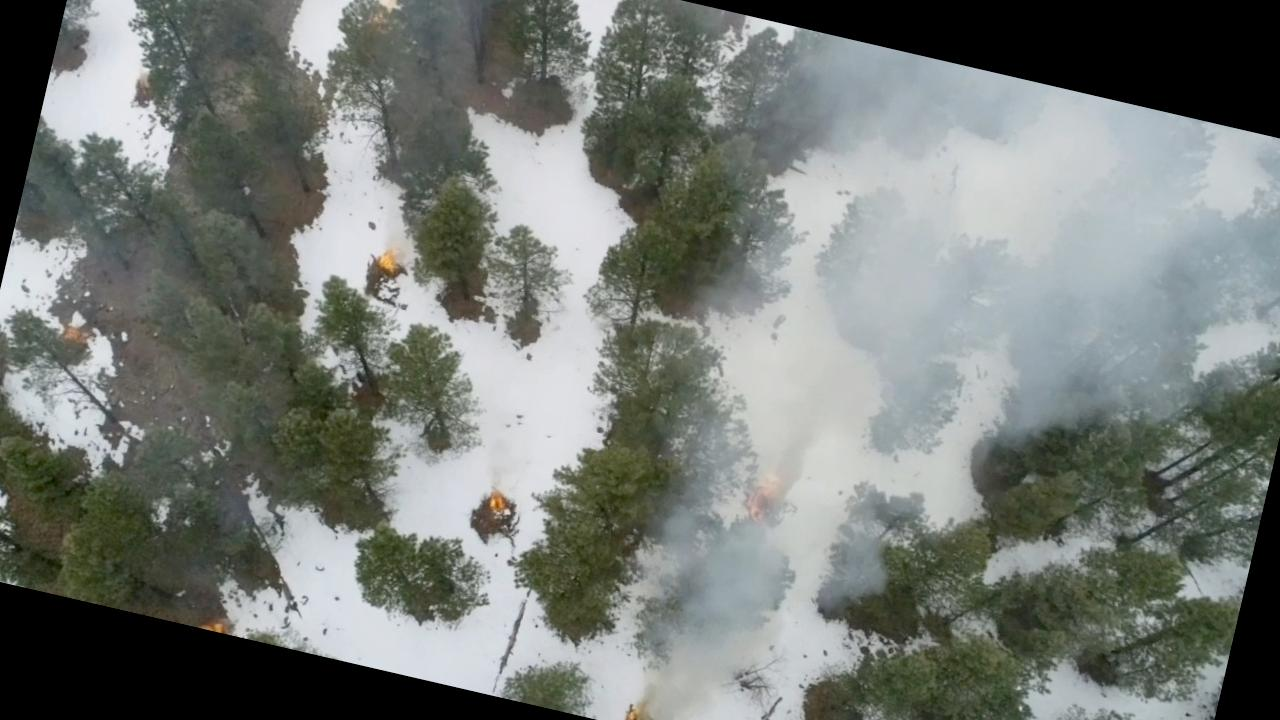fire: (736, 459, 798, 534), (481, 477, 518, 517), (372, 243, 406, 273)
smoke: (655, 8, 1280, 406), (632, 282, 1116, 647), (648, 562, 768, 677)
